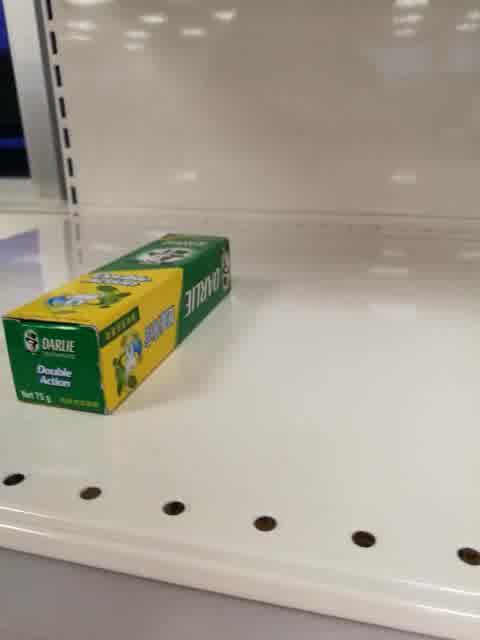toothpaste: (1, 234, 232, 417)
